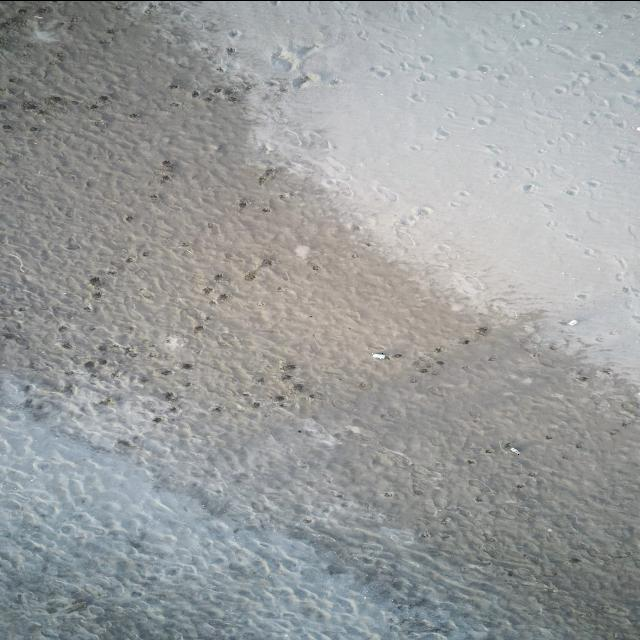Garbage: (500, 442, 520, 455), (372, 352, 387, 359), (510, 446, 520, 452), (567, 319, 576, 324)
